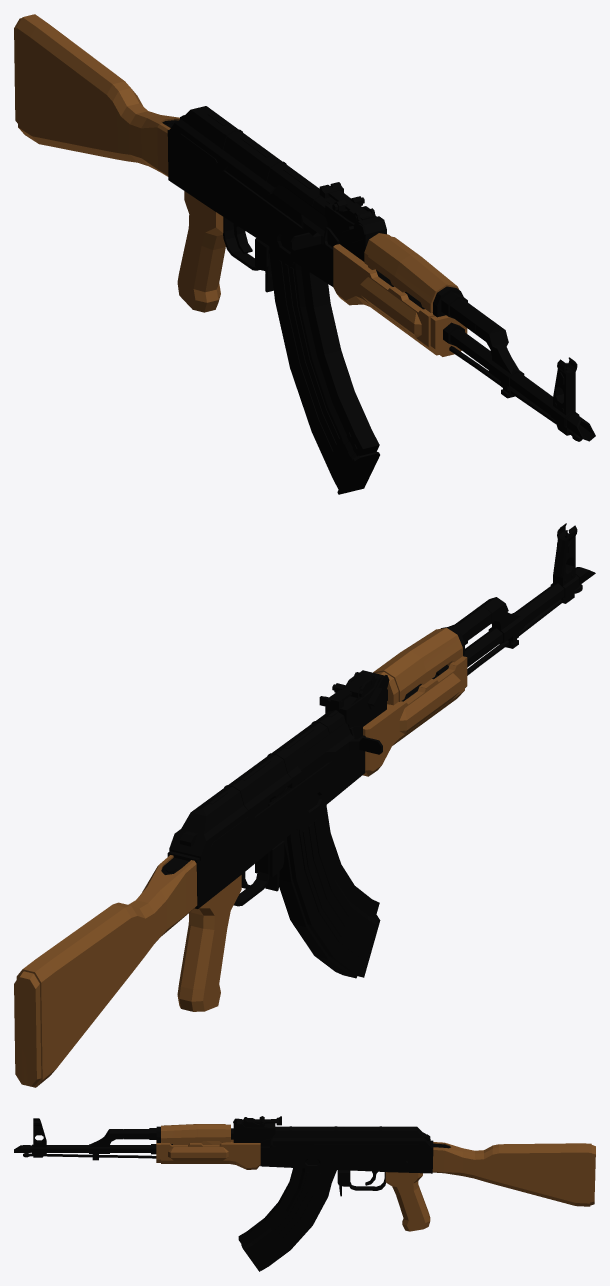
3 views of the same model, one above another, from view 1: azimuth 30°, elevation 25°; view 2: azimuth 150°, elevation 25°; view 3: azimuth 270°, elevation 25° (orthographic). The views are drawn at different scales.
Parts seen in each view (by area): view 1: Ak-47; view 2: Ak-47; view 3: Ak-47.
Part boxes in pixels (x1=…): Ak-47: x1=14, y1=14, x2=595, y2=494; Ak-47: x1=14, y1=523, x2=595, y2=1087; Ak-47: x1=14, y1=1116, x2=595, y2=1271.
Size of the model in its own units: 0.17 by 0.6895 by 2.41.
